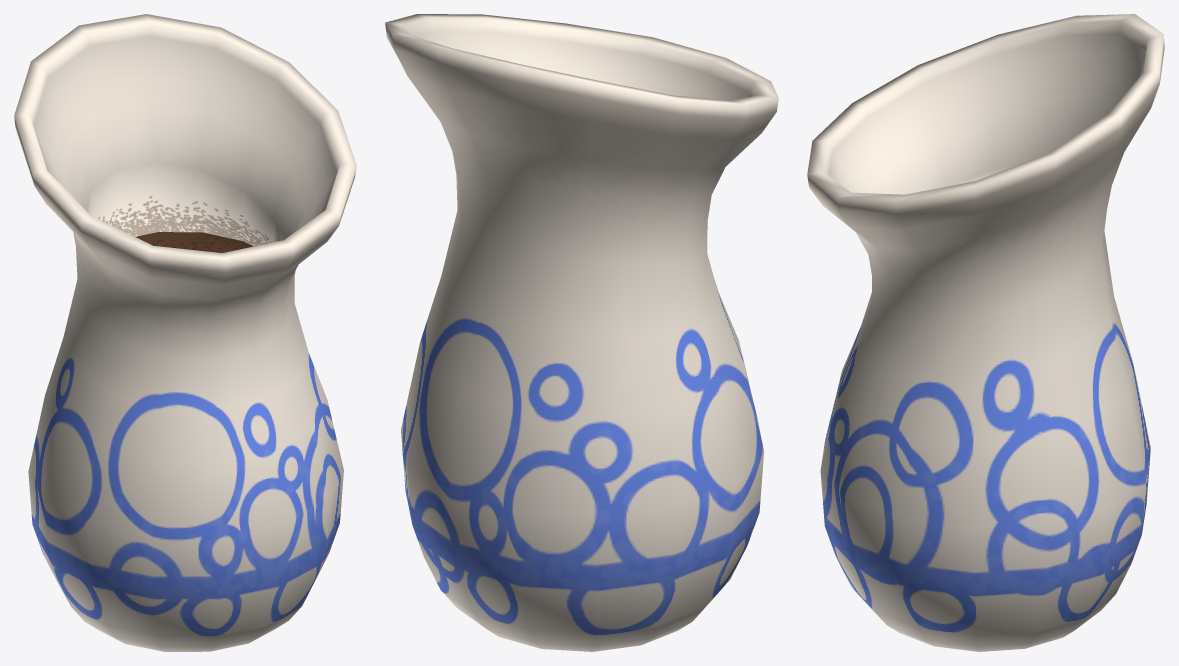
The model's file is Vase_Alt.fbx.
The picture shows the model from 3 angles, left to right: view 1: azimuth 30°, elevation 25°; view 2: azimuth 150°, elevation 25°; view 3: azimuth 270°, elevation 25°; orthographic projection. The views are drawn at different scales.
Parts seen in each view (by area): view 1: Vase_Alt; view 2: Vase_Alt; view 3: Vase_Alt.
Boxes of the visible parts, bbox=[...] form: Vase_Alt: bbox=[14, 14, 356, 651]; Vase_Alt: bbox=[385, 14, 778, 651]; Vase_Alt: bbox=[807, 14, 1164, 651].
Bounding box in the file's own units: 627 × 1086 × 621.
Materials: 1 (1 with a texture image).
